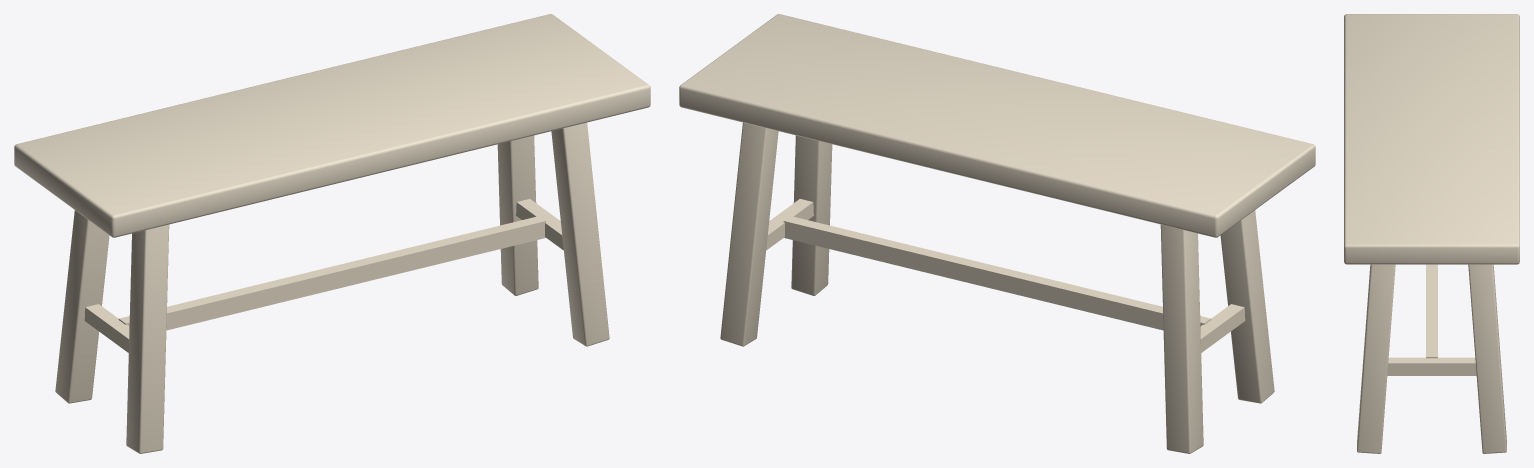
File: sg_bench.glb
3 renders of one model, left to right at view 1: azimuth 30°, elevation 25°; view 2: azimuth 150°, elevation 25°; view 3: azimuth 270°, elevation 25°, orthographic. The views are drawn at different scales.
Parts seen in each view (by area): view 1: top, stretch, leg00, leg10, leg01, leg11; view 2: top, stretch, leg01, leg11, leg00, leg10; view 3: top, leg10, leg11, stretch.
Boxes of the visible parts, x1,y1,x2,y2 form: top: [14, 14, 650, 237]; stretch: [84, 199, 563, 352]; leg00: [126, 224, 169, 453]; leg10: [551, 122, 609, 346]; leg01: [55, 210, 109, 403]; leg11: [497, 135, 538, 295]; top: [679, 14, 1315, 237]; stretch: [766, 199, 1245, 352]; leg01: [1160, 224, 1203, 453]; leg11: [720, 122, 778, 346]; leg00: [1220, 210, 1274, 403]; leg10: [791, 135, 832, 295]; top: [1344, 14, 1519, 264]; leg10: [1357, 264, 1395, 453]; leg11: [1468, 264, 1506, 453]; stretch: [1387, 264, 1476, 375].
Bounding box in the file's own units: 1 × 0.4517 × 0.32.
